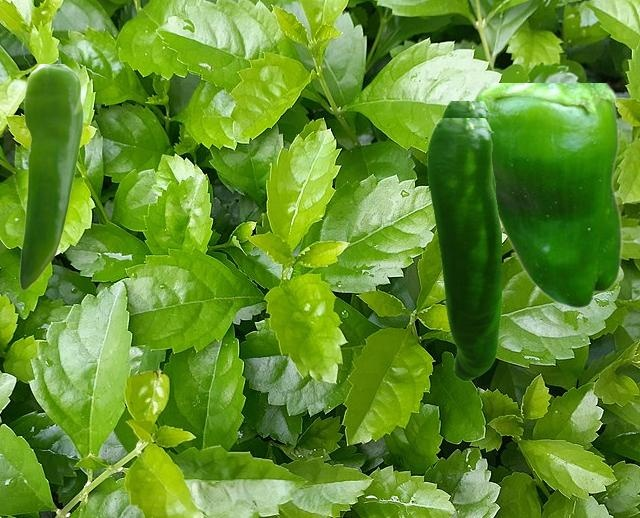green_chili: (470, 83, 621, 308), (427, 118, 500, 380), (19, 64, 82, 289), (441, 101, 494, 187)
